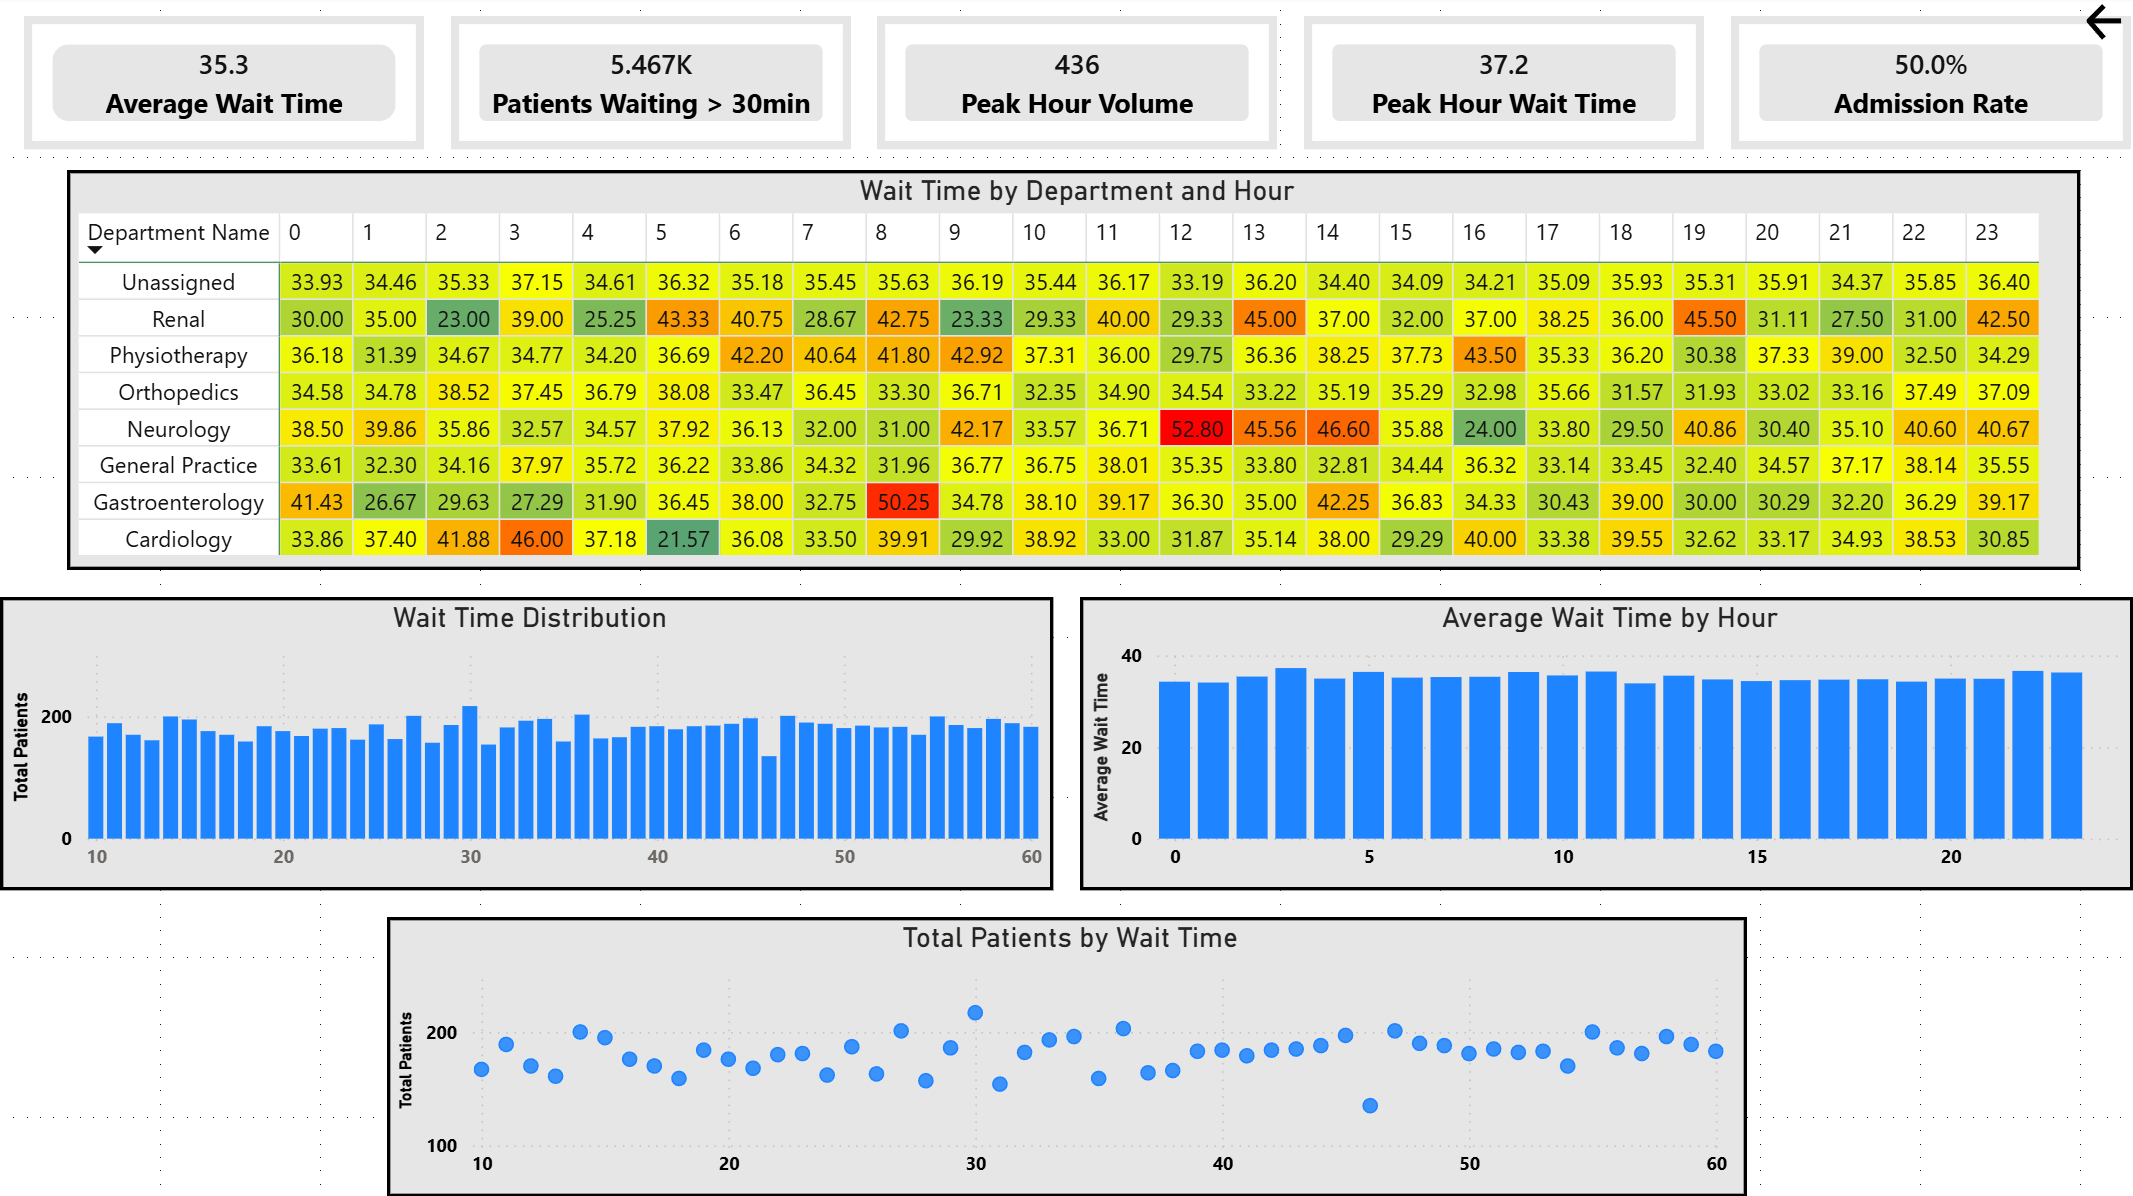

This screenshot's page, from the dashboard's own definition file:
{"tool":"powerbi","page":{"name":"Operational Bottlenecks & Throughput","canvas":[1280,720],"ordinal":1},"visuals":[{"type":"cardVisual","fields":{"Data":["Fact_PatientFlow.Average Wait Time"]},"box":[14.4,11.3,240,80],"z":0,"group":"g2"},{"type":"clusteredColumnChart","title":"Wait Time Distribution","fields":{"Y":["Fact_PatientFlow.Total Patients"],"Category":["Fact_PatientFlow.Patient Waittime"]},"box":[0,360,632,176],"z":0,"group":"g1"},{"type":"group","id":"g1","title":"Charts","box":[0,104,1280,616],"z":500},{"type":"cardVisual","fields":{"Data":["Fact_PatientFlow.Patients Waiting Greater Then 30 Min"]},"box":[270.4,11.3,240,80],"z":1000,"group":"g2"},{"type":"pivotTable","title":"Wait Time by Department and Hour","fields":{"Rows":["dim_Department.Department Name"],"Columns":["dim_Time.Hour"],"Values":["Fact_PatientFlow.Average Wait Time"]},"box":[40,104,1208,240],"z":1000,"group":"g1"},{"type":"group","id":"g2","title":"KPIs","box":[14.4,11.3,1264,80],"z":2000},{"type":"cardVisual","fields":{"Data":["Fact_PatientFlow.Admission Rate"]},"box":[1038.4,11.3,240,80],"z":2000,"group":"g2"},{"type":"clusteredColumnChart","fields":{"Y":["Fact_PatientFlow.Average Wait Time"],"Category":["dim_Time.Hour"]},"box":[648,360,632,176],"z":2000,"group":"g1"},{"type":"actionButton","title":"Toggle Button Open","box":[1248,0,30,30],"z":2125},{"type":"cardVisual","fields":{"Data":["Fact_PatientFlow.Peak Hour Wait Time"]},"box":[782.4,11.3,240,80],"z":3000,"group":"g2"},{"type":"scatterChart","title":"Total Patients by Wait Time","fields":{"X":["Fact_PatientFlow.Patient Waittime"],"Y":["Fact_PatientFlow.Total Patients"]},"box":[232,552,816,168],"z":3000,"group":"g1"},{"type":"cardVisual","fields":{"Data":["Age Group Sort.Peak Hour"]},"box":[526.4,11.3,240,80],"z":4000,"group":"g2"}]}

Visuals, with their boxes in screenshot pixels (x1, y1, x2, y2), scaled from the page's 1280x720 canvas onto the 2133x1196 screenshot:
cardVisual - Fact_PatientFlow.Average Wait Time: 24:19:424:152
"Wait Time Distribution" clusteredColumnChart: 0:598:1053:890
"Charts" group: 0:173:2132:1195
cardVisual - Fact_PatientFlow.Patients Waiting Greater Then 30 Min: 451:19:851:152
"Wait Time by Department and Hour" pivotTable: 67:173:2080:571
"KPIs" group: 24:19:2130:152
cardVisual - Fact_PatientFlow.Admission Rate: 1730:19:2130:152
clusteredColumnChart - Fact_PatientFlow.Average Wait Time x dim_Time.Hour: 1080:598:2132:890
"Toggle Button Open" actionButton: 2080:0:2130:50
cardVisual - Fact_PatientFlow.Peak Hour Wait Time: 1304:19:1704:152
"Total Patients by Wait Time" scatterChart: 387:917:1746:1195
cardVisual - Age Group Sort.Peak Hour: 877:19:1277:152
